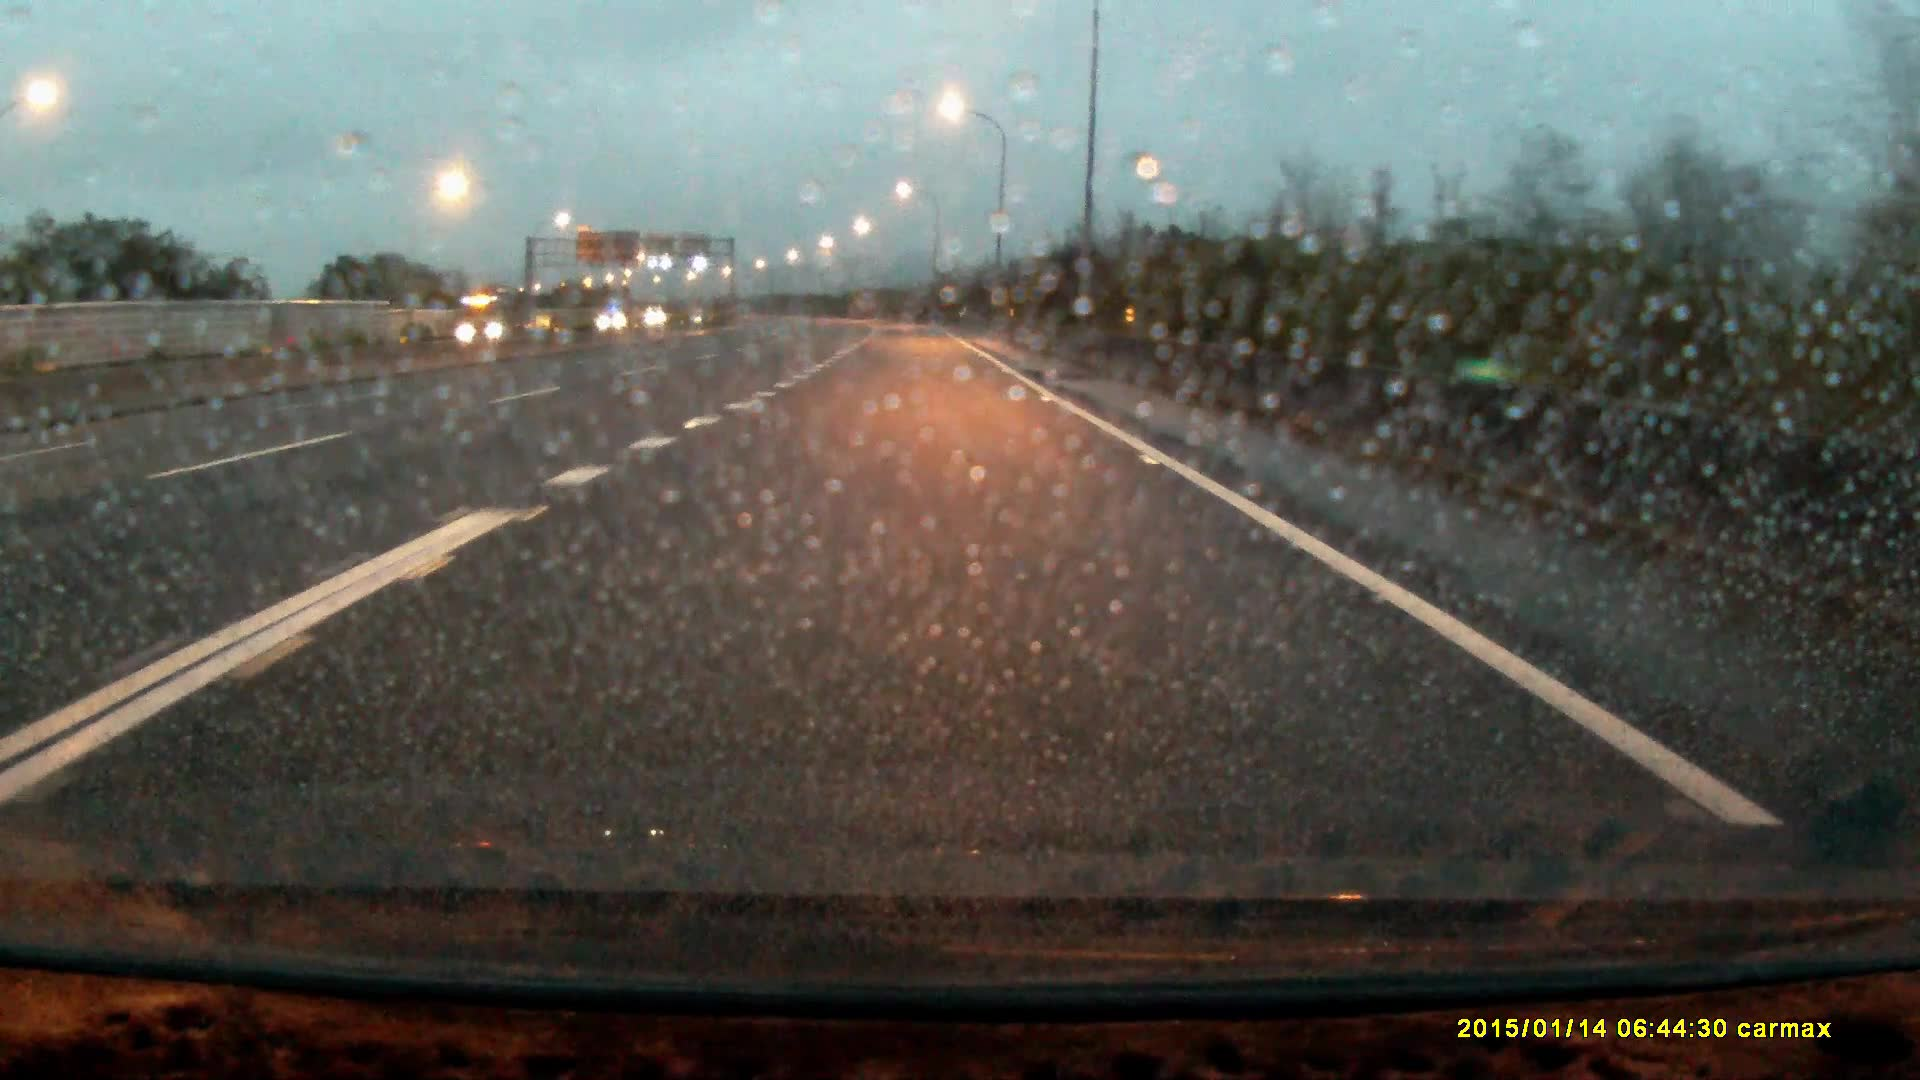vehicle: (459, 295, 527, 343)
